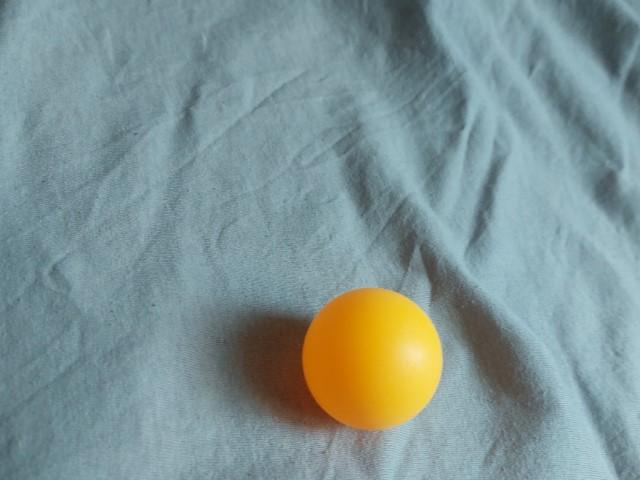oball: (287, 279, 455, 439)
